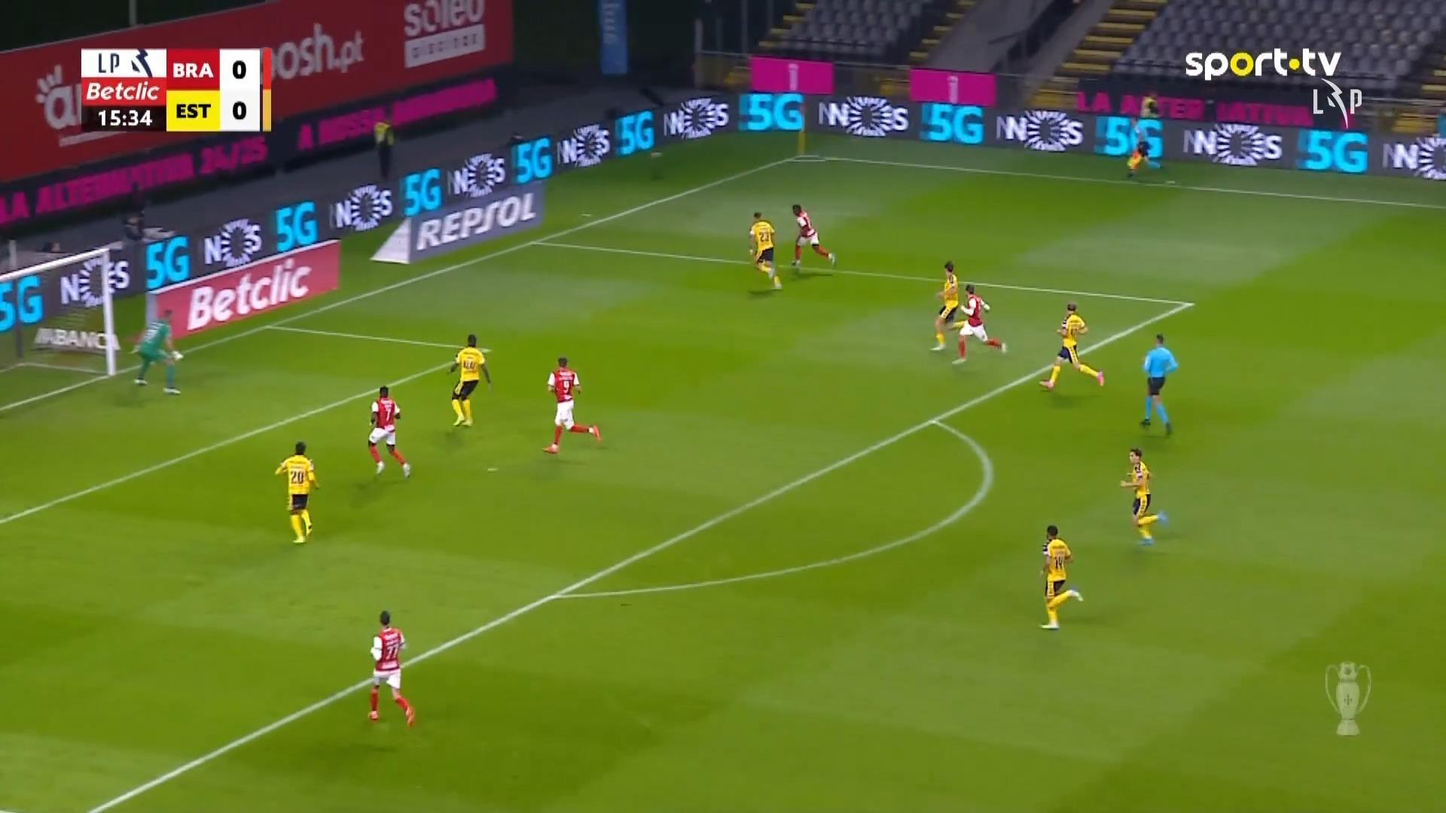goalkeeper: (130, 307, 184, 394)
player: (1039, 301, 1105, 390), (542, 355, 601, 453), (367, 609, 415, 726), (273, 440, 320, 544), (1118, 446, 1167, 545), (1038, 523, 1083, 629), (950, 282, 1008, 364), (447, 333, 491, 428), (367, 385, 411, 478), (929, 260, 964, 351), (789, 203, 836, 269), (747, 211, 782, 290)
referee: (1139, 332, 1178, 436), (1124, 116, 1162, 178)
